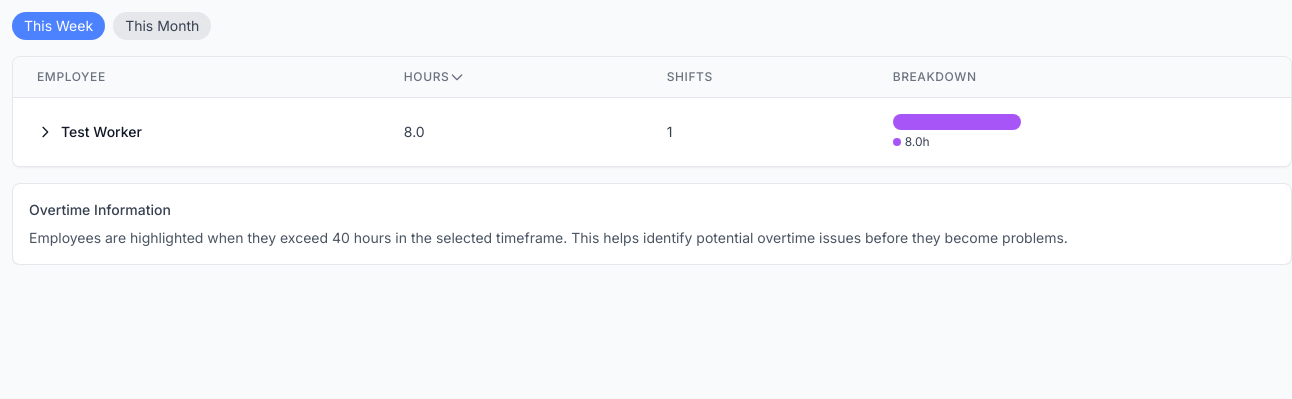
Test: EmployeeHoursView Component › Edge Cases › should handle missing shift details in expanded view
Click the text "Test Worker": [89, 132] box [37,123,142,140]
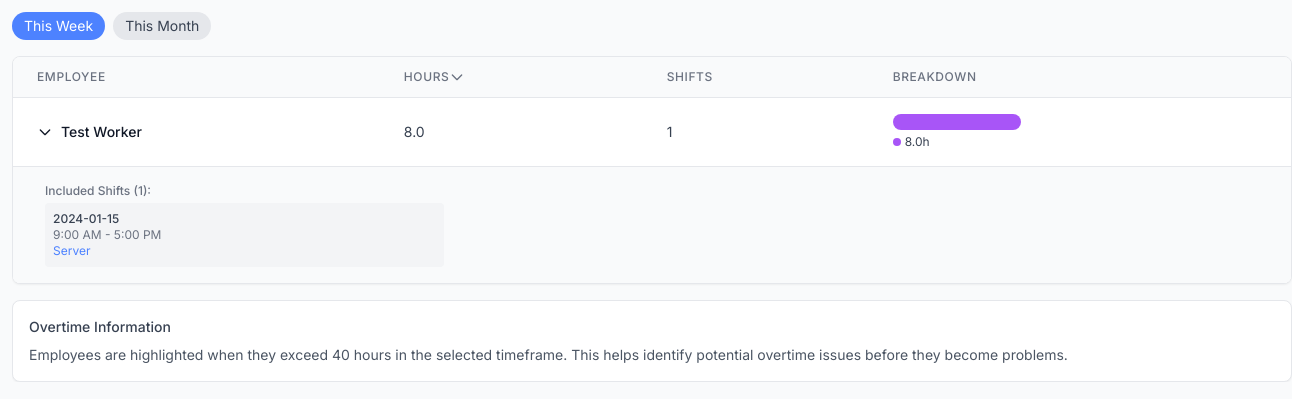
Check: the text "Included Shifts (1):" is shown, box [45,183,151,198]
Check: the text "2024-01-15" is shown, box [53,211,119,226]
